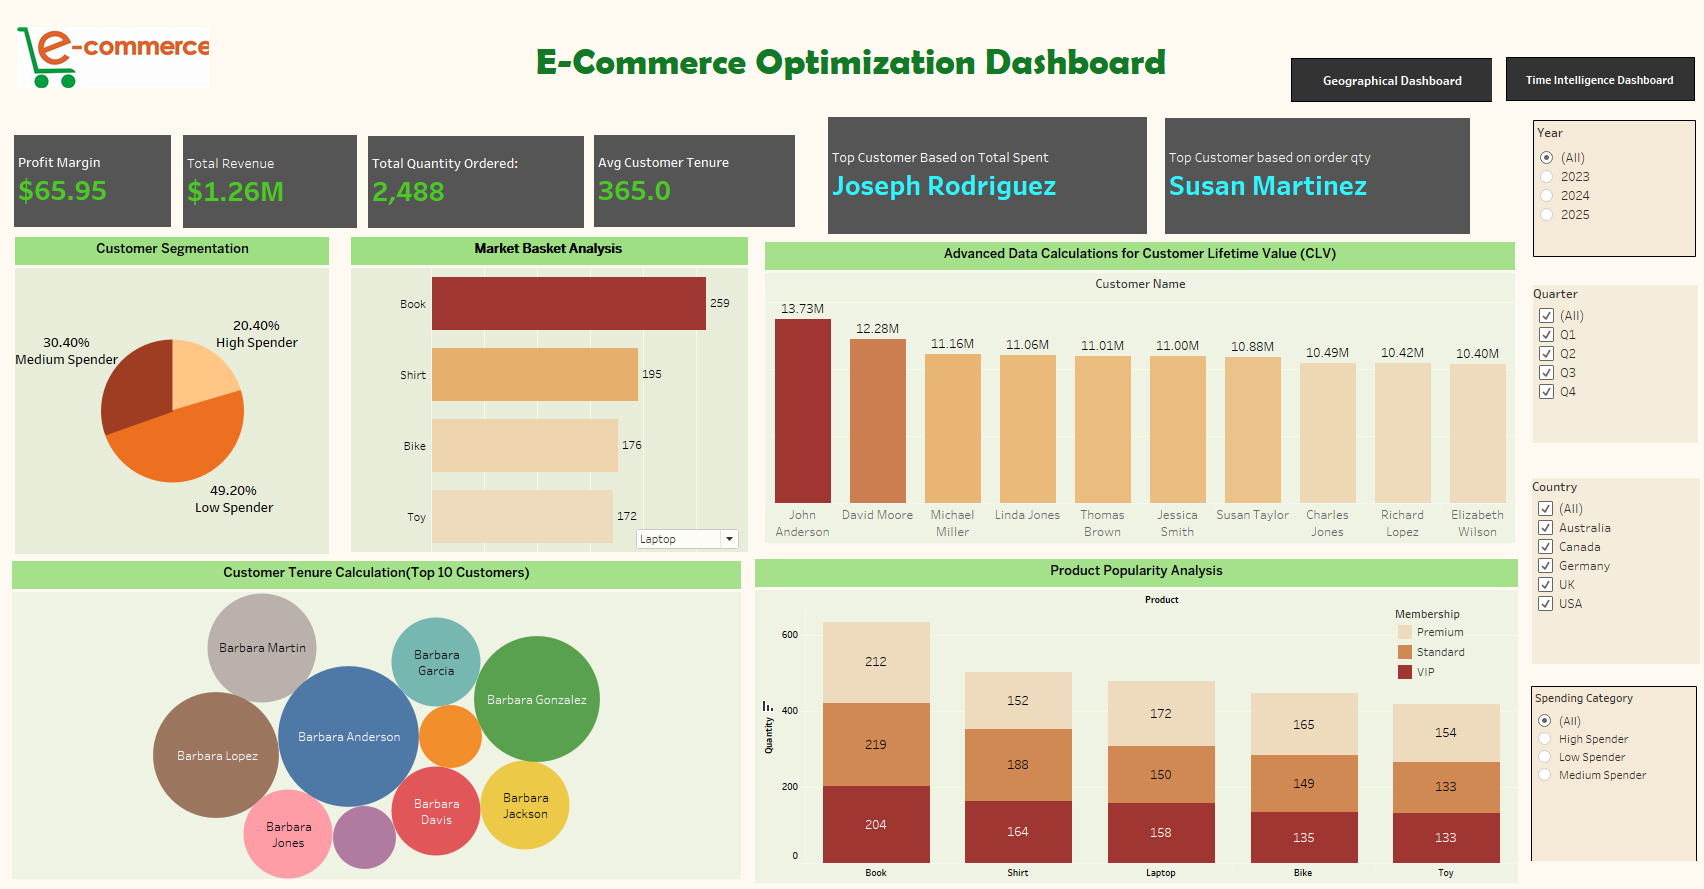

Layout of this report page (visuals, bound fields, positions):
{"tool":"tableau","page":{"name":"Ecommerce Executive Dashboard","canvas":[1000,1000],"units":"permille","ordinal":0},"visuals":[{"type":"text","box":[9.2,14.1,982.8,115.2]},{"type":"image","param":"Image/download (4).jpg","box":[12.8,24.7,112.5,85.8]},{"type":"dashboard-object","box":[883.9,67,110.6,49.4]},{"type":"dashboard-object","box":[758.1,68.2,117.9,49.4]},{"type":"worksheet","title":"Top Customer based customer lifetime Value ","mark":"Automatic","box":[487.5,134,186.6,130.4]},{"type":"worksheet","title":"Top Customer Based on ","mark":"Automatic","box":[684.5,135.1,178.7,129.3]},{"type":"filter","title":"Profit Margin","param":"[federated.15epve71f8ao6w1chxbvb10y6p53].[none:Calculation_2612087800216375297:o","box":[899.8,137.5,95.4,152.8]},{"type":"worksheet","title":"Profit Margin","mark":"Automatic","box":[10.9,153.9,91.8,102.2]},{"type":"worksheet","title":"Total Revenue","mark":"Automatic","box":[109.8,153.9,102,103.4]},{"type":"worksheet","title":"Average customer Tenure","mark":"Automatic","box":[350.8,153.9,117.3,102.2]},{"type":"worksheet","title":"Total Quantity ordered","mark":"Automatic","box":[218.5,155.1,126.1,102.2]},{"type":"worksheet","title":"Task 2","mark":"Pie","box":[11.5,267.9,184.1,353.7]},{"type":"worksheet","title":"Task 20","mark":"Automatic","rows":["Calculation_2172705361873985537"],"cols":["OrderID"],"box":[208.5,267.9,232.2,351.4]},{"type":"worksheet","title":"Task 17","mark":"Bar","rows":["Calculation_2612087800283336720"],"cols":["CustomerName"],"box":[450.5,273.8,438.9,336.1]},{"type":"filter","title":"Average customer Tenure","param":"[federated.15epve71f8ao6w1chxbvb10y6p53].[qr:OrderDate:ok]","box":[899.8,322,96.6,176.3]},{"type":"filter","title":"Average customer Tenure","param":"[federated.15epve71f8ao6w1chxbvb10y6p53].[none:Country:nk]","box":[899.2,537,98.4,208]},{"type":"parameter","param":"[Parameters].[Parameter 1]","box":[373.2,593.4,63.8,23.5]},{"type":"worksheet","title":"Task 7","mark":"Automatic","rows":["Quantity"],"cols":["Product"],"box":[445,627.5,446.2,361.9]},{"type":"worksheet","title":"Task 10","mark":"Circle","box":[9.7,629.9,426.8,354.9]},{"type":"legend","title":"Task 7","param":"[federated.15epve71f8ao6w1chxbvb10y6p53].[none:Membership:nk]","box":[819.5,679.2,64.4,98.7]},{"type":"filter","title":"Task 2","param":"[federated.15epve71f8ao6w1chxbvb10y6p53].[none:Calculation_2612087800204111872:n","box":[898.5,768.5,97.3,196.2]}]}

Visuals, with their boxes on the dashboard's canvas, which has no fixed pixel size, in thousandths of its width and height (x1, y1, x2, y2). These are canvas units, not pixel positions in the 1704x889 screenshot, which may show the page scaled, cropped or inside an application window:
text: left=9, top=14, right=992, bottom=129
image: left=13, top=25, right=125, bottom=110
dashboard-object: left=884, top=67, right=994, bottom=116
dashboard-object: left=758, top=68, right=876, bottom=118
"Top Customer based customer lifetime Value " worksheet: left=488, top=134, right=674, bottom=264
"Top Customer Based on " worksheet: left=684, top=135, right=863, bottom=264
"Profit Margin" filter: left=900, top=138, right=995, bottom=290
"Profit Margin" worksheet: left=11, top=154, right=103, bottom=256
"Total Revenue" worksheet: left=110, top=154, right=212, bottom=257
"Average customer Tenure" worksheet: left=351, top=154, right=468, bottom=256
"Total Quantity ordered" worksheet: left=218, top=155, right=345, bottom=257
"Task 2" worksheet (Pie marks): left=12, top=268, right=196, bottom=622
"Task 20" worksheet: left=208, top=268, right=441, bottom=619
"Task 17" worksheet (Bar marks): left=450, top=274, right=889, bottom=610
"Average customer Tenure" filter: left=900, top=322, right=996, bottom=498
"Average customer Tenure" filter: left=899, top=537, right=998, bottom=745
parameter: left=373, top=593, right=437, bottom=617
"Task 7" worksheet: left=445, top=628, right=891, bottom=989
"Task 10" worksheet (Circle marks): left=10, top=630, right=436, bottom=985
"Task 7" legend: left=820, top=679, right=884, bottom=778
"Task 2" filter: left=898, top=768, right=996, bottom=965
